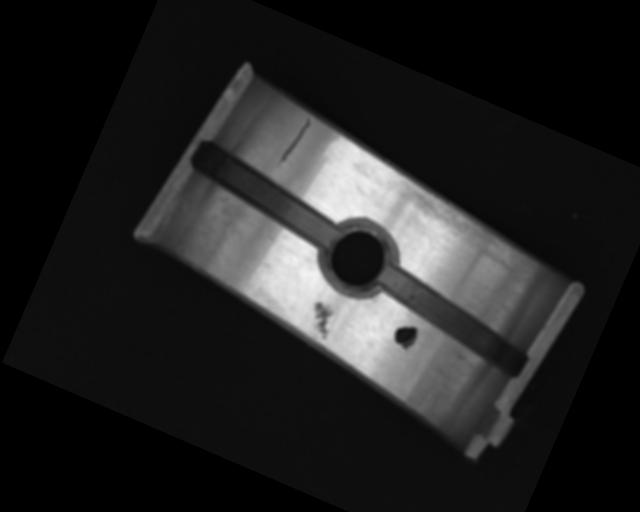blot: (389, 320, 421, 353)
bruise: (303, 299, 340, 341)
gap: (366, 262, 540, 379), (182, 138, 351, 251)
hole: (309, 209, 406, 305)
nick: (275, 111, 314, 174)
scratch: (379, 171, 538, 276)
